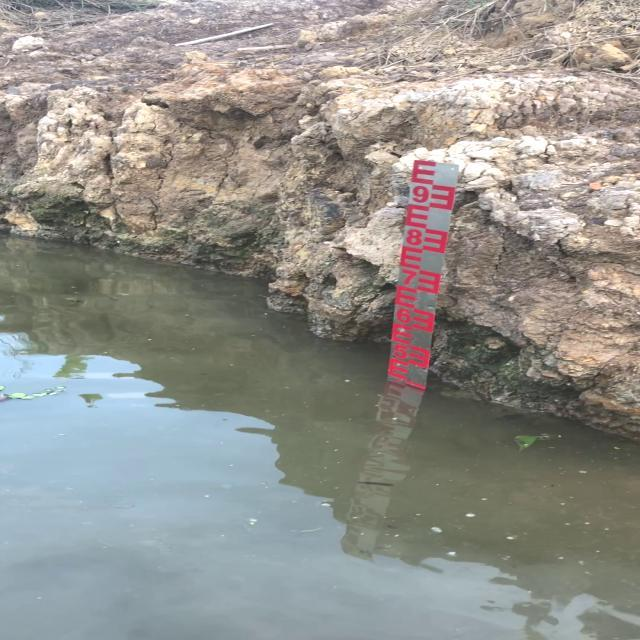ruler: (367, 152, 477, 399)
value: (408, 180, 432, 207), (397, 267, 420, 291), (403, 226, 425, 250), (388, 340, 411, 362), (392, 305, 413, 325)
